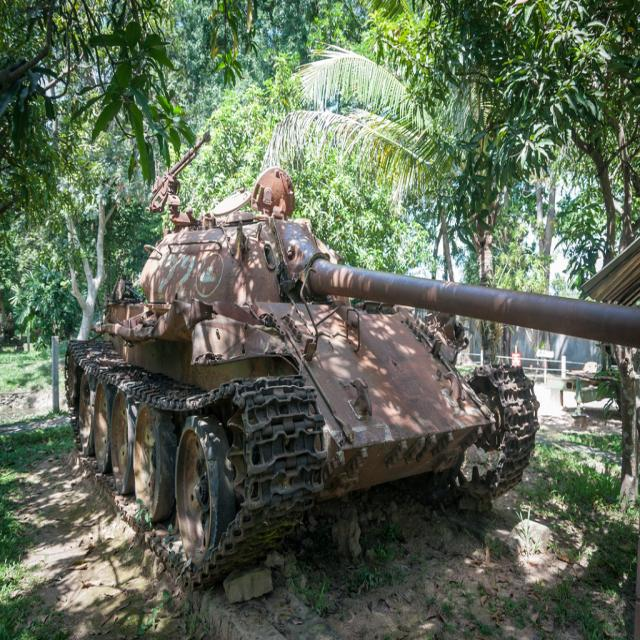tank: (64, 129, 639, 586)
